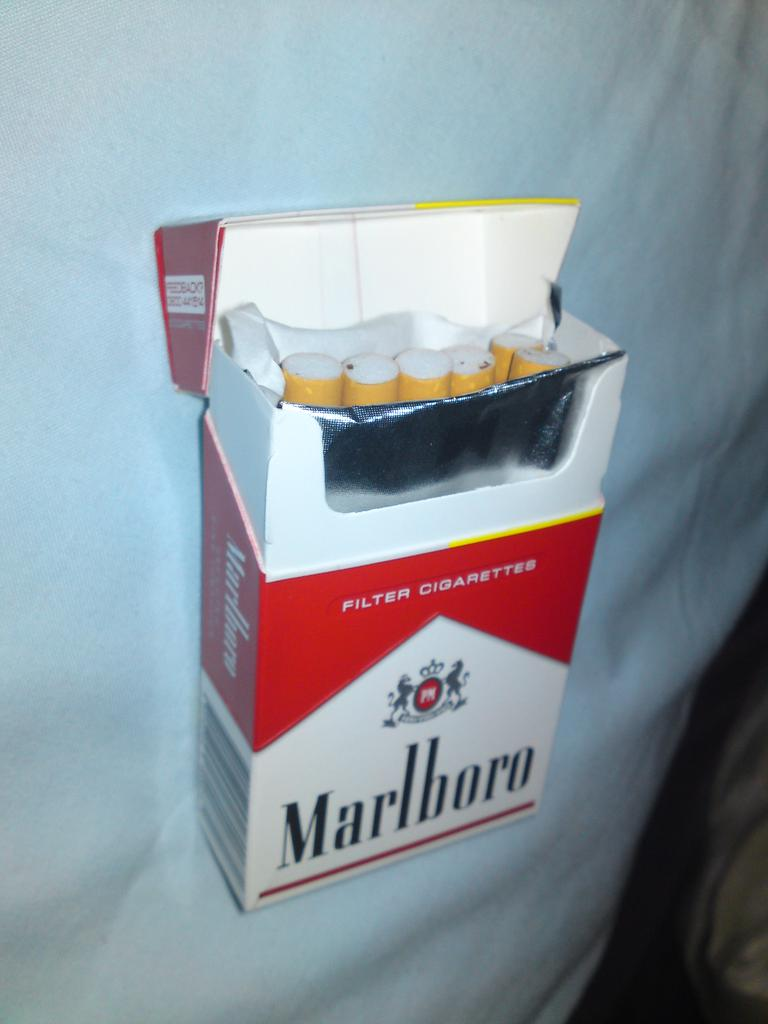marlboro_red: (248, 447, 573, 879)
